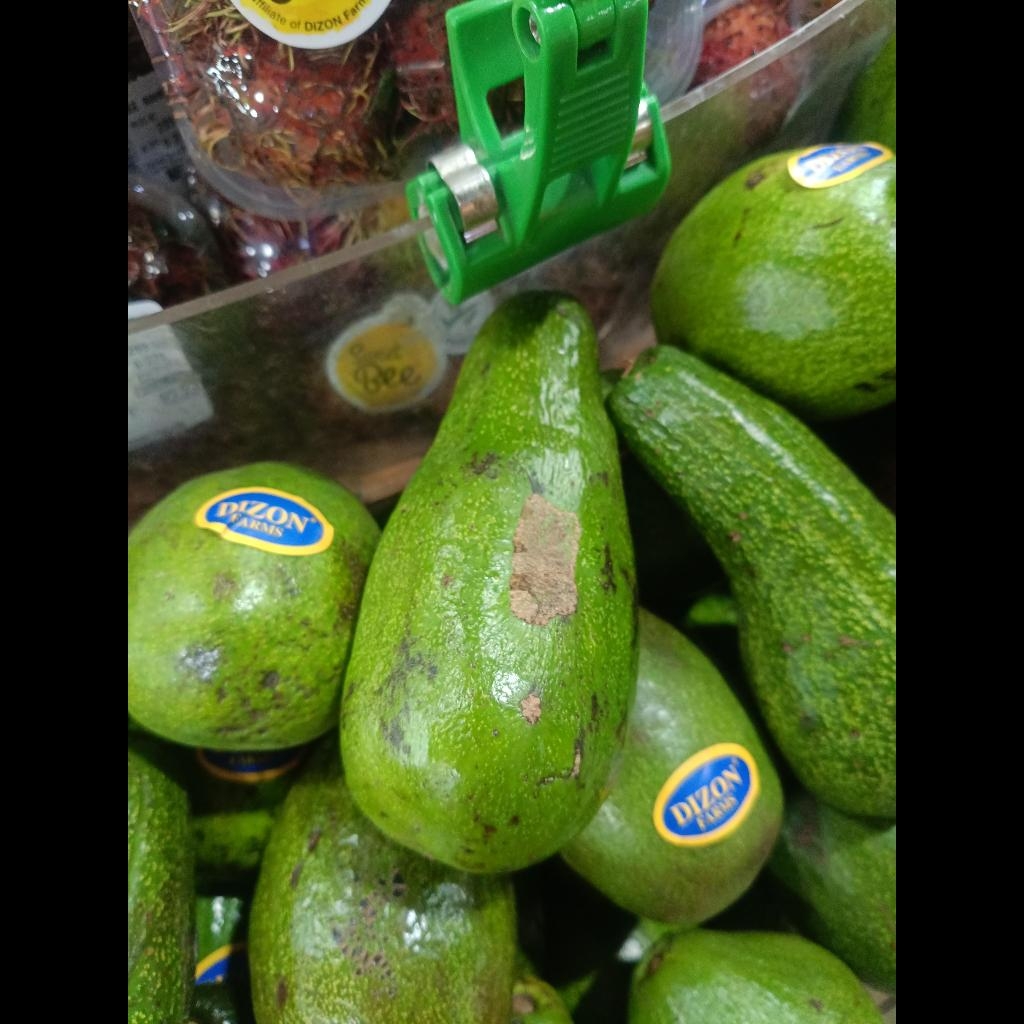healthy: (340, 292, 639, 872)
